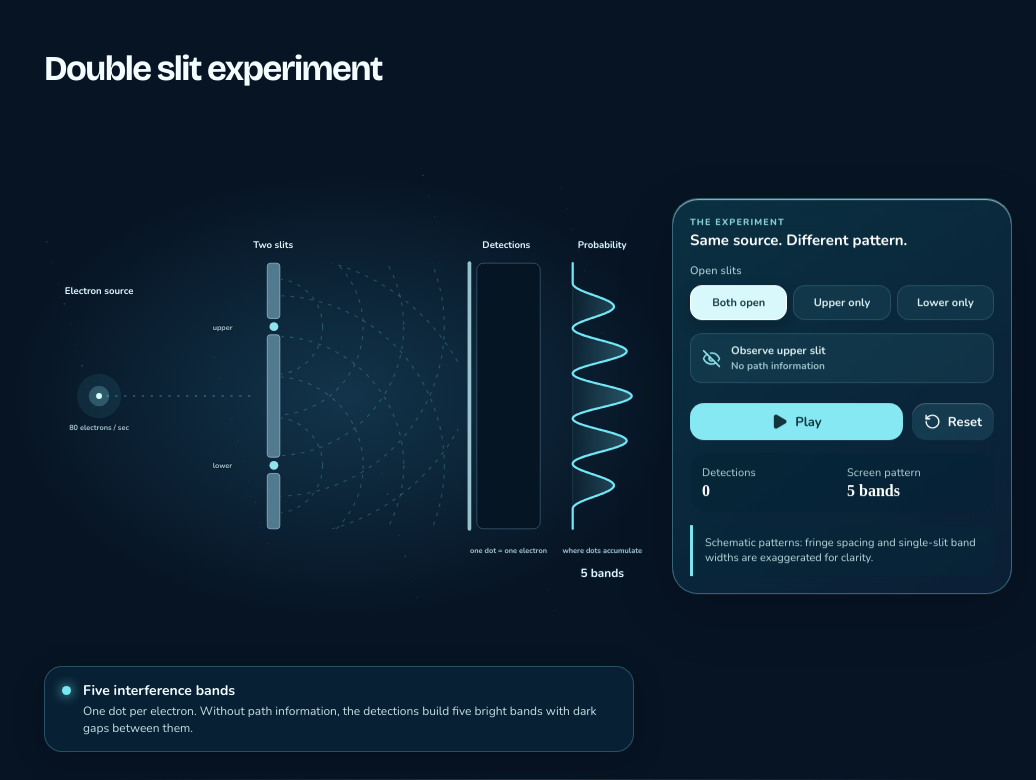
it: double-slit experiment › switches between interference and path-known patterns
Expected: the heading "Double slit experiment" is shown, [44,48,382,89]
Expected: the text "Five interference bands" is shown, [83,681,235,700]
Click the button "Observe upper slit No path information": click(778, 351) [690,333,994,383]
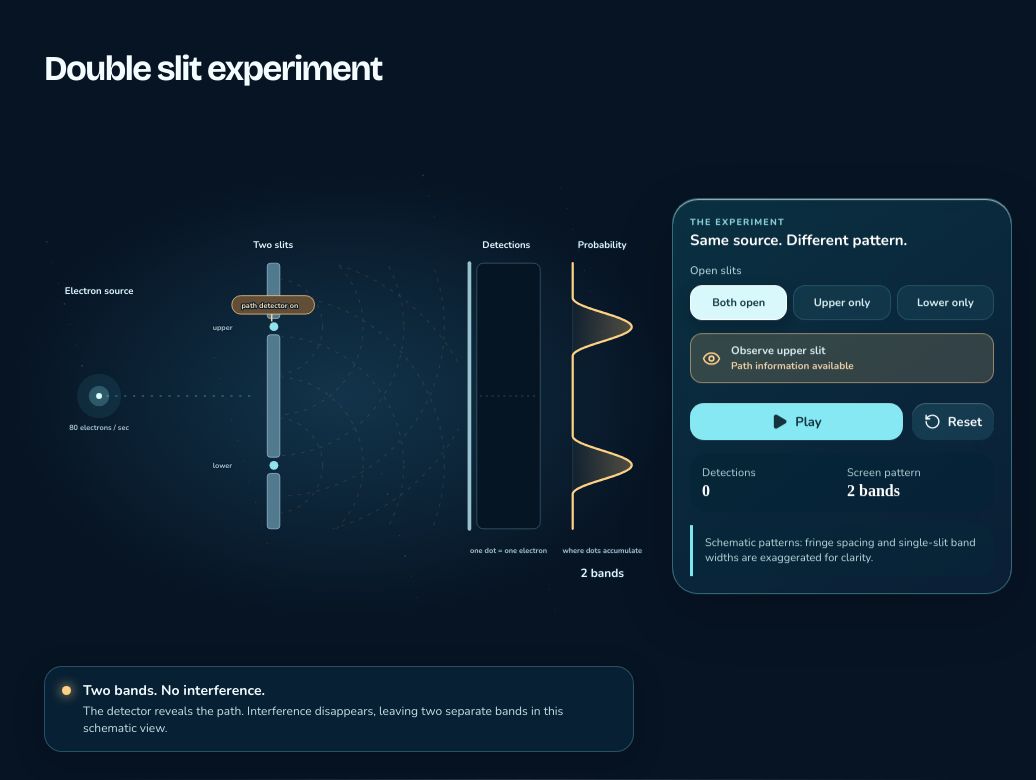
Now the text "Two bands. No interference." is shown, box [83,681,265,700]
Click the button "Observe upper slit Path information available": click(842, 358) [690,333,994,383]
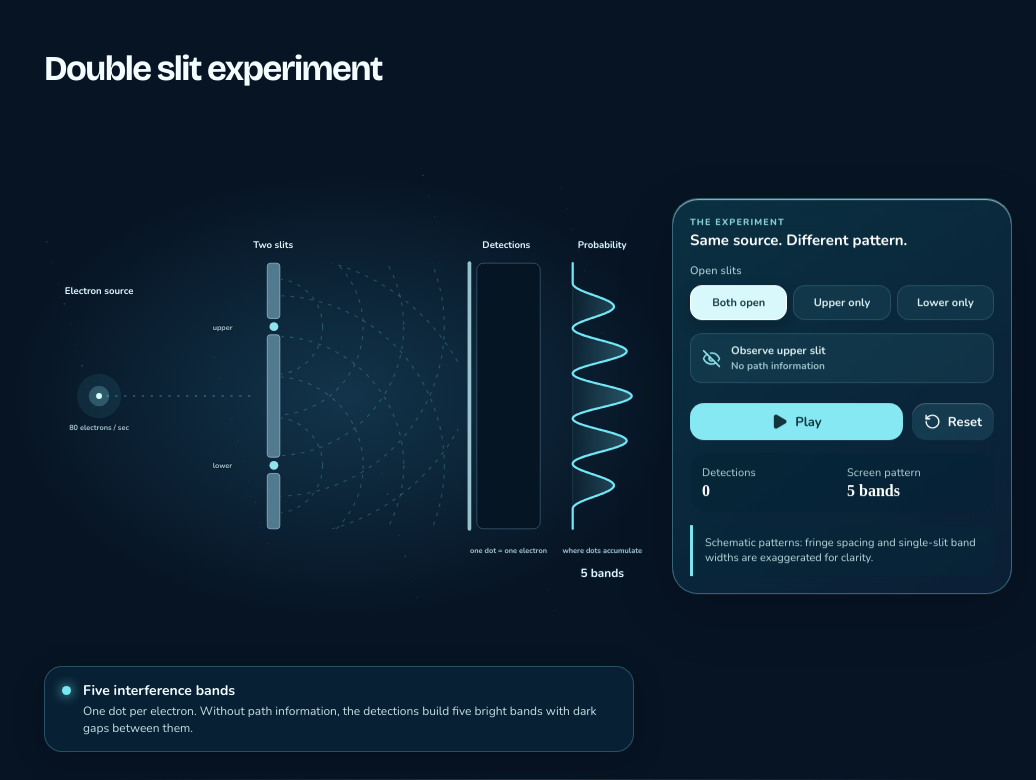
Click the button "Upper only": click(842, 303) [793,285,891,320]
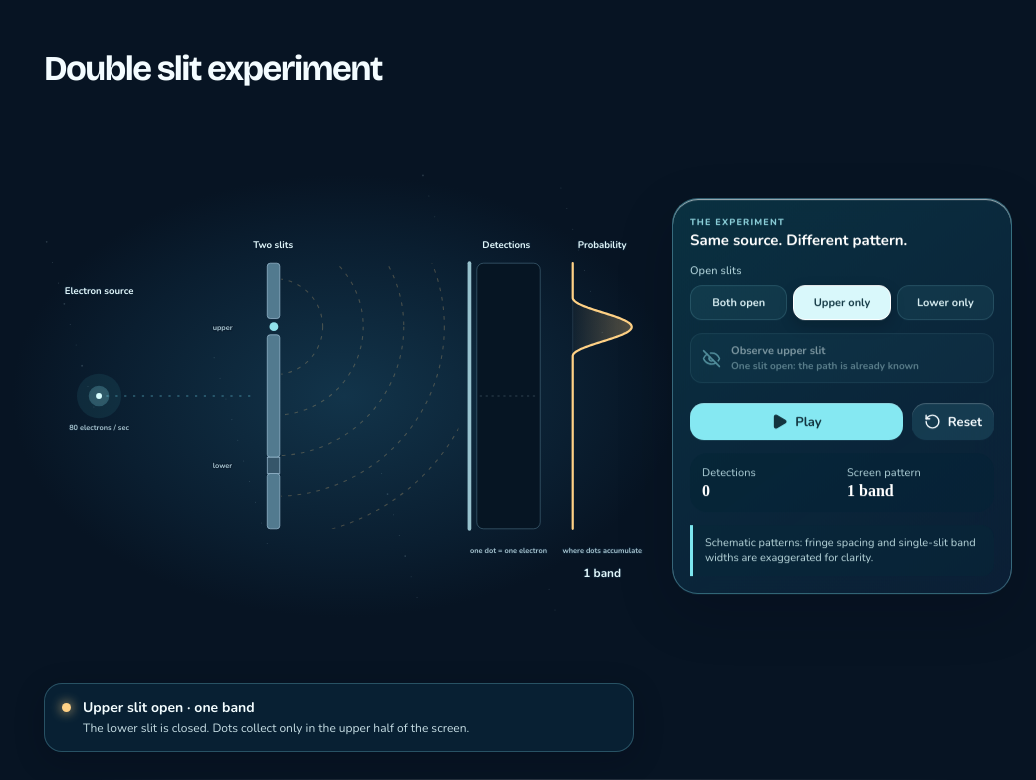
Now the text "Upper slit open · one band" is shown, box [83,698,255,717]
Now the button "Observe upper slit One slit open: the path is already known" is disabled, box [690,333,994,383]
Click the button "Lower only": click(945, 303) [897,285,994,320]
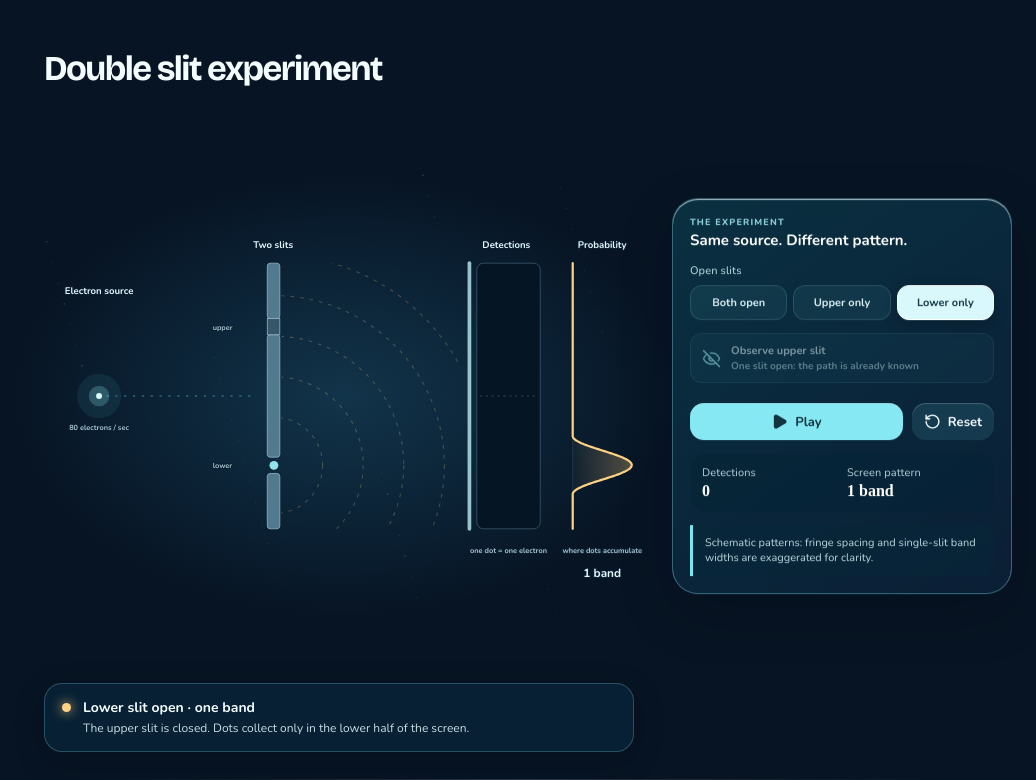
Now the text "Lower slit open · one band" is shown, box [83,698,255,717]
Click the button "Both open": click(739, 303) [690,285,787,320]
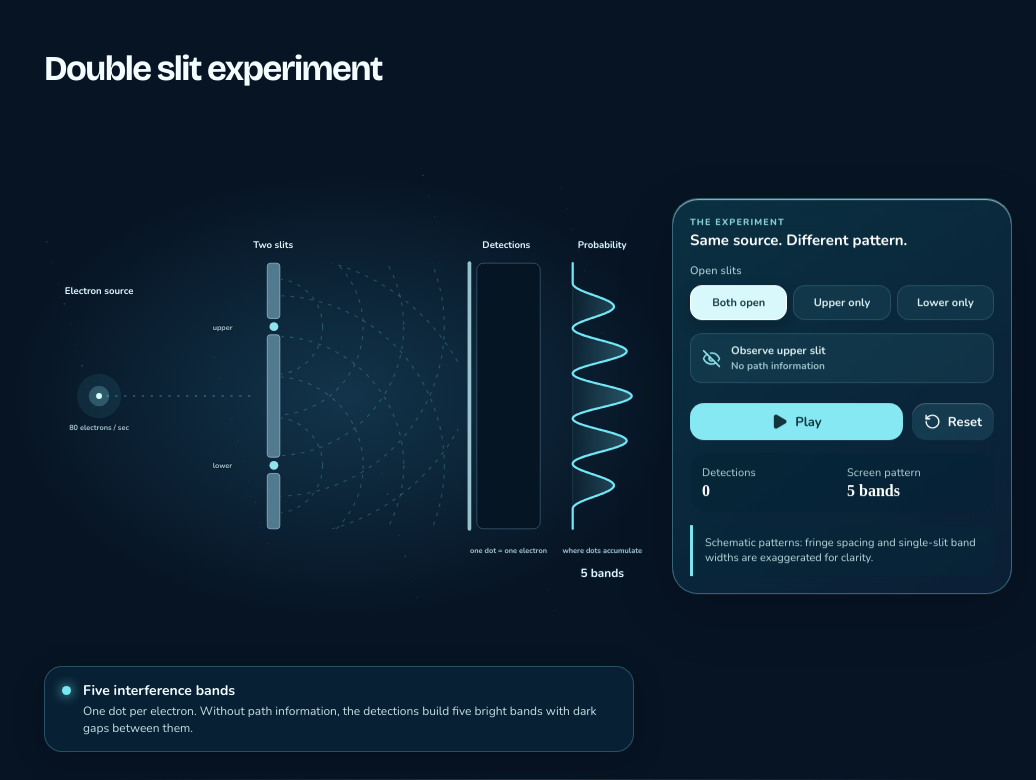
Click the button "Observe upper slit No path information": click(778, 351) [690,333,994,383]
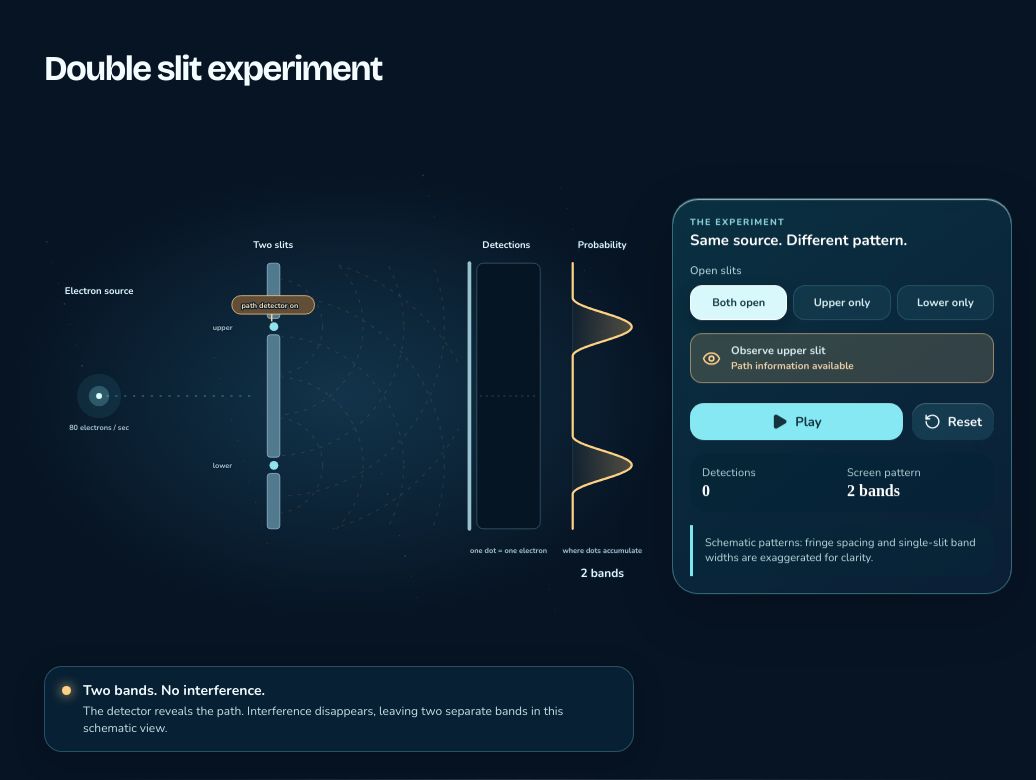
Now the text "Two bands. No interference." is shown, box [83,681,265,700]
